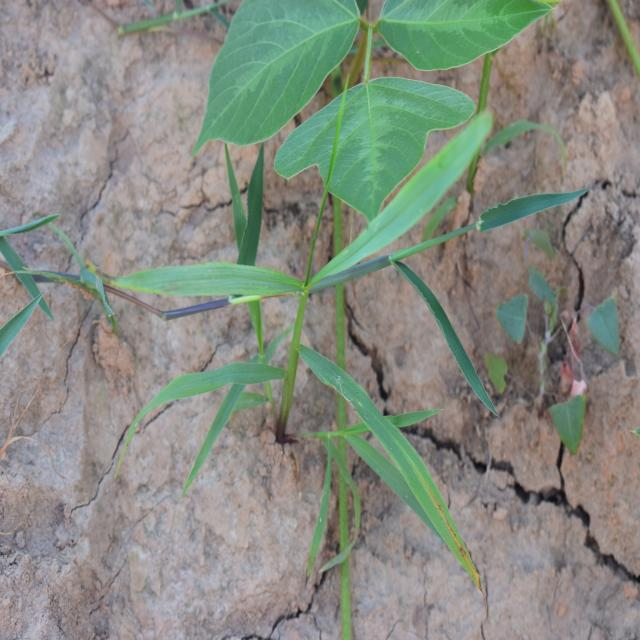green_foxtail: (158, 157, 473, 502)
